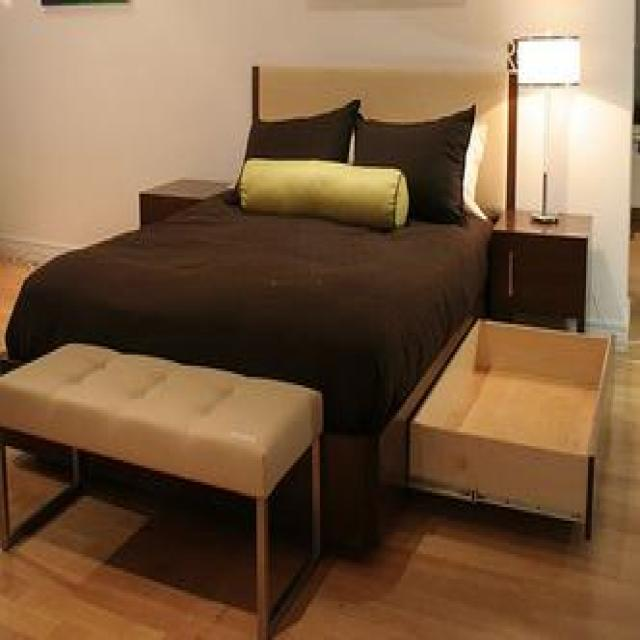bed: (0, 61, 515, 557)
